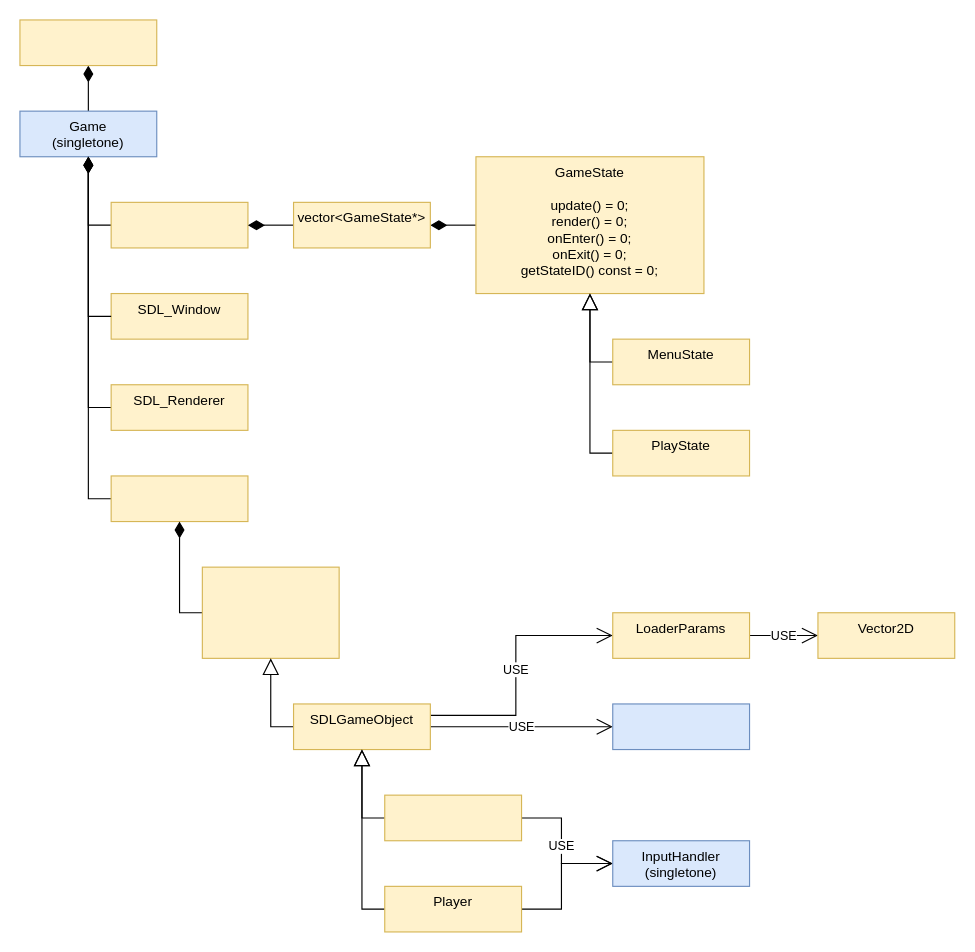
Some shapes in this 975 by 952 pixel diagram are drawn without their labels. The centre of each missing label's shape, as x and y in pixels:
"Enemy" goes at (453,817).
"GameObject draw() = 0; update() = 0; clean() = 0;" goes at (270,612).
"GameStateMachine" goes at (179,224).
"main (entry point)" goes at (88,42).
"TextureManager (singletone)" goes at (681,726).
"vector<GameObject*>" goes at (179,498).
